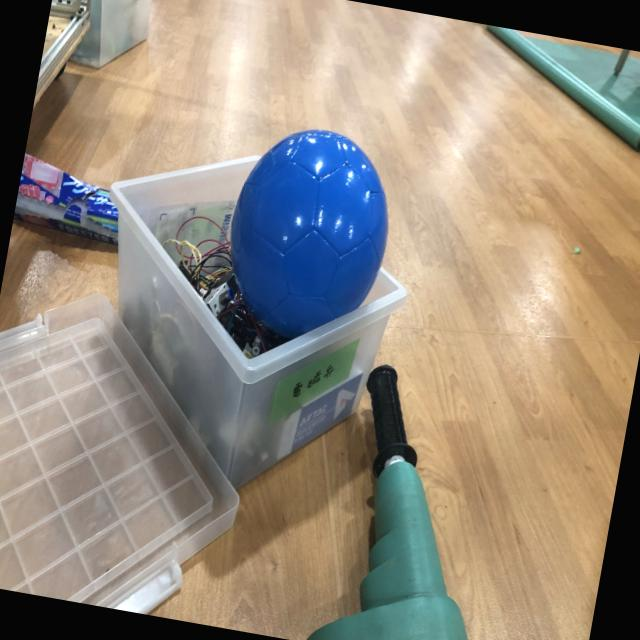blue_ball: (220, 115, 404, 346)
